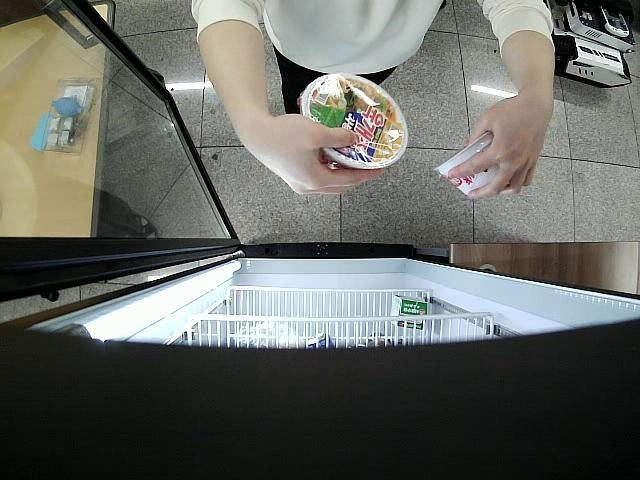09_yukGaeJang: (298, 72, 408, 170), (436, 132, 510, 196)
